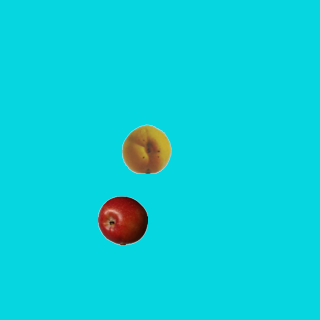Apple Braeburn: (97, 195, 147, 245)
Peach 2: (121, 123, 171, 173)
